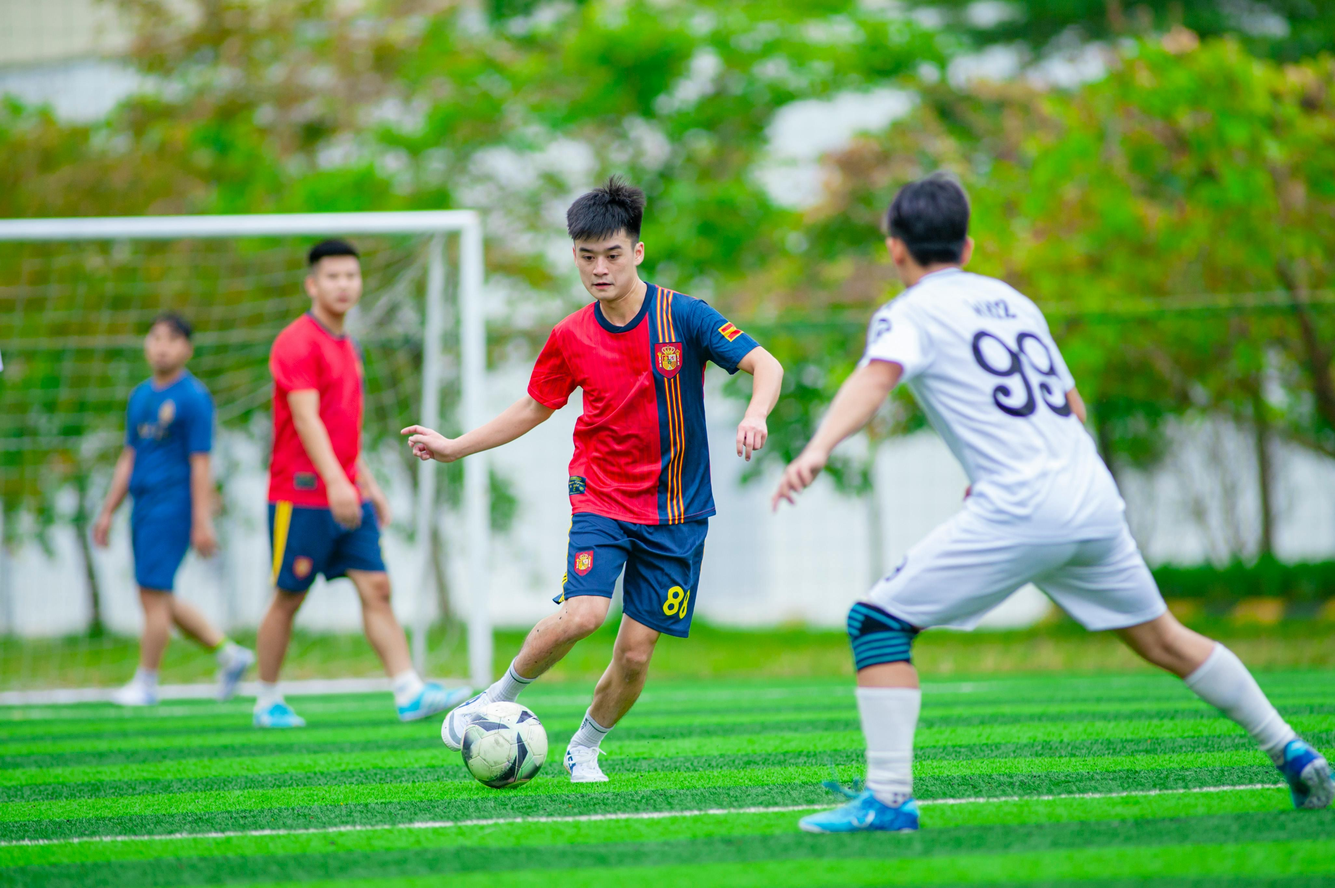ballon_football: (462, 703, 547, 790)
